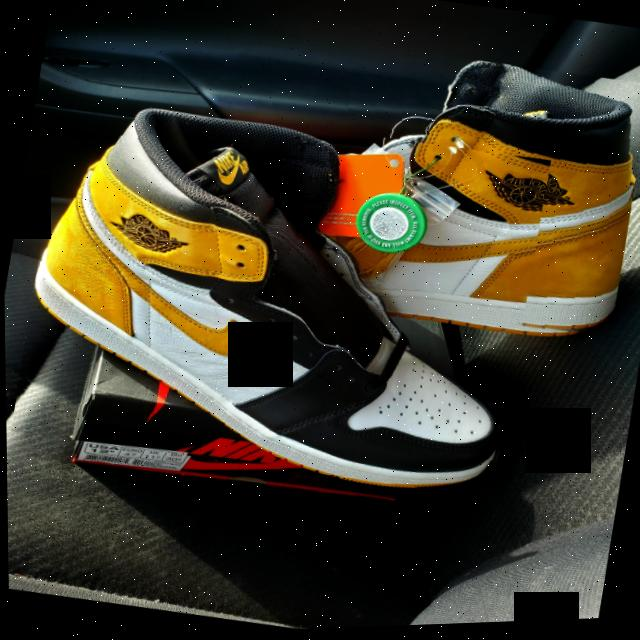shoe: (6, 79, 554, 516), (295, 34, 640, 359)
